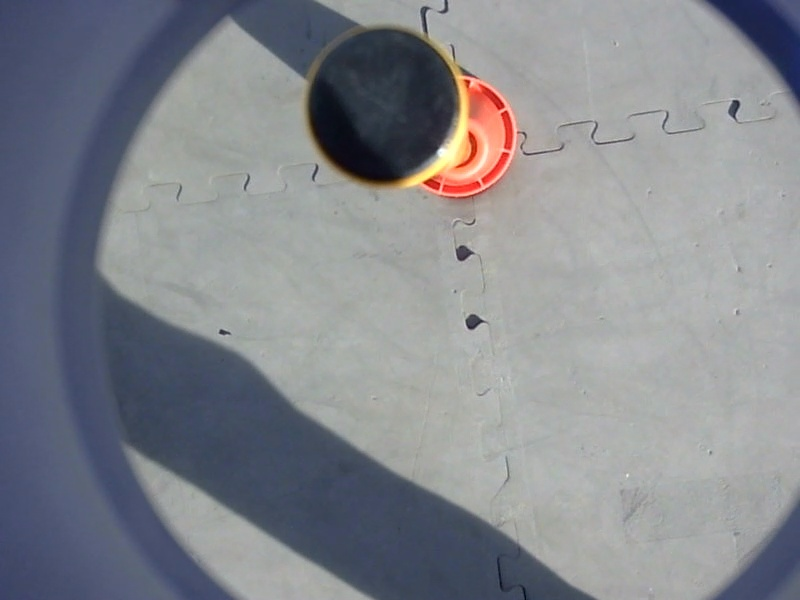tip: (296, 20, 473, 205)
